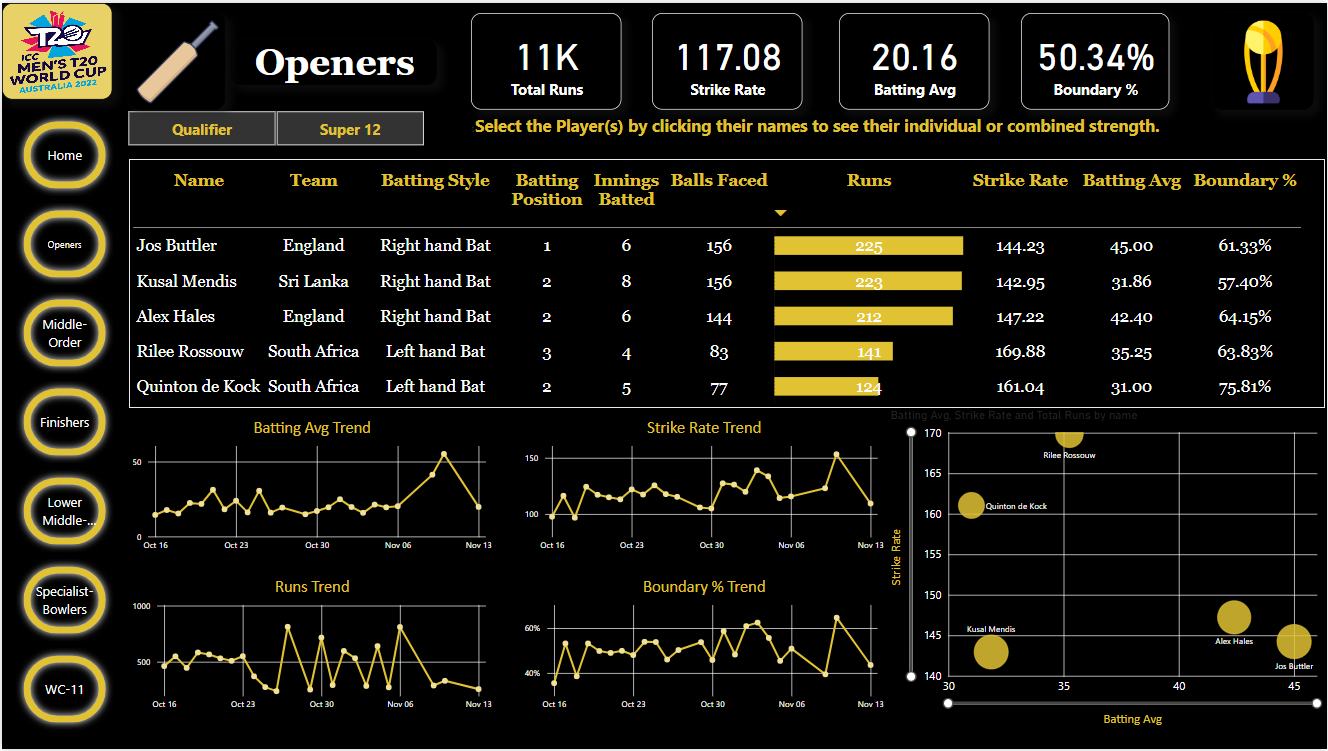

This screenshot's page, from the dashboard's own definition file:
{"tool":"powerbi","page":{"name":"Openers","canvas":[1920,1080],"ordinal":1},"visuals":[{"type":"tableEx","fields":{"Values":["dim_player.name","dim_player.team","dim_player.battingStyle","Key Measures.Batting Position","Key Measures.Total Innings Batted","Key Measures.Total Balls Faced","Key Measures.Total Runs","Key Measures.Strike Rate","Key Measures.Batting Avg","Key Measures.Boundary %"]},"box":[183.9,225.8,1733.9,361.3],"z":0},{"type":"slicer","fields":{"Values":["dim_match_summary.stage"]},"box":[162.9,154.8,467.7,53.2],"z":1000},{"type":"lineChart","title":"Batting Avg Trend ","fields":{"Y":["Key Measures.Batting Avg"],"Category":["dim_match_summary.matchDate.Variation.Date Hierarchy.Year","dim_match_summary.matchDate.Variation.Date Hierarchy.Quarter","dim_match_summary.matchDate.Variation.Date Hierarchy.Month","dim_match_summary.matchDate.Variation.Date Hierarchy.Day"]},"box":[183.9,600,530.6,203.2],"z":2000},{"type":"lineChart","title":"Strike Rate Trend ","fields":{"Category":["dim_match_summary.matchDate.Variation.Date Hierarchy.Year","dim_match_summary.matchDate.Variation.Date Hierarchy.Quarter","dim_match_summary.matchDate.Variation.Date Hierarchy.Month","dim_match_summary.matchDate.Variation.Date Hierarchy.Day"],"Y":["Key Measures.Strike Rate"]},"box":[751.6,600,530.6,203.2],"z":3000},{"type":"lineChart","title":"Runs Trend","fields":{"Category":["dim_match_summary.matchDate.Variation.Date Hierarchy.Year","dim_match_summary.matchDate.Variation.Date Hierarchy.Quarter","dim_match_summary.matchDate.Variation.Date Hierarchy.Month","dim_match_summary.matchDate.Variation.Date Hierarchy.Day"],"Y":["Key Measures.Total Runs"]},"box":[183.9,830.6,530.6,203.2],"z":4000},{"type":"lineChart","title":"Boundary % Trend ","fields":{"Category":["dim_match_summary.matchDate.Variation.Date Hierarchy.Year","dim_match_summary.matchDate.Variation.Date Hierarchy.Quarter","dim_match_summary.matchDate.Variation.Date Hierarchy.Month","dim_match_summary.matchDate.Variation.Date Hierarchy.Day"],"Y":["Key Measures.Boundary %"]},"box":[751.6,830.6,530.6,203.2],"z":5000},{"type":"scatterChart","fields":{"Category":["dim_player.name"],"X":["Key Measures.Batting Avg"],"Y":["Key Measures.Strike Rate"],"Size":["Key Measures.Total Runs"]},"box":[1282.3,587.1,637.1,462.9],"z":6000},{"type":"pageNavigator","box":[21,161.3,141.9,893.5],"z":7000},{"type":"image","box":[183.9,14.5,138.7,140.3],"z":8000},{"type":"image","box":[0,0,159.7,140.3],"z":9000},{"type":"textbox","box":[332.3,53.2,298.4,64.5],"z":10000},{"type":"image","box":[1753.2,14.5,146.8,140.3],"z":11000},{"type":"textbox","box":[679,161.3,1012.9,41.9],"z":12000},{"type":"card","fields":{"Values":["Key Measures.Total Runs"]},"box":[679,14.5,217.7,140.3],"z":13000},{"type":"card","fields":{"Values":["Key Measures.Strike Rate"]},"box":[941.9,14.5,217.7,140.3],"z":14000},{"type":"card","fields":{"Values":["Key Measures.Batting Avg"]},"box":[1212.9,14.5,217.7,140.3],"z":15000},{"type":"card","fields":{"Values":["Key Measures.Boundary %"]},"box":[1477.4,14.5,214.5,140.3],"z":16000}]}

Visuals, with their boxes in screenshot pixels (x1, y1, x2, y2), scaled from the page's 1920x1080 canvas onto the 1328x751 screenshot:
tableEx - dim_player.name x dim_player.team: [x1=127, y1=157, x2=1326, y2=408]
slicer - dim_match_summary.stage: [x1=113, y1=108, x2=436, y2=145]
"Batting Avg Trend " lineChart: [x1=127, y1=417, x2=494, y2=559]
"Strike Rate Trend " lineChart: [x1=520, y1=417, x2=887, y2=559]
"Runs Trend" lineChart: [x1=127, y1=578, x2=494, y2=719]
"Boundary % Trend " lineChart: [x1=520, y1=578, x2=887, y2=719]
scatterChart - dim_player.name x Key Measures.Batting Avg: [x1=887, y1=408, x2=1327, y2=730]
pageNavigator: [x1=15, y1=112, x2=113, y2=733]
image: [x1=127, y1=10, x2=223, y2=108]
image: [x1=0, y1=0, x2=110, y2=98]
textbox: [x1=230, y1=37, x2=436, y2=82]
image: [x1=1213, y1=10, x2=1314, y2=108]
textbox: [x1=470, y1=112, x2=1170, y2=141]
card - Key Measures.Total Runs: [x1=470, y1=10, x2=620, y2=108]
card - Key Measures.Strike Rate: [x1=651, y1=10, x2=802, y2=108]
card - Key Measures.Batting Avg: [x1=839, y1=10, x2=989, y2=108]
card - Key Measures.Boundary %: [x1=1022, y1=10, x2=1170, y2=108]
